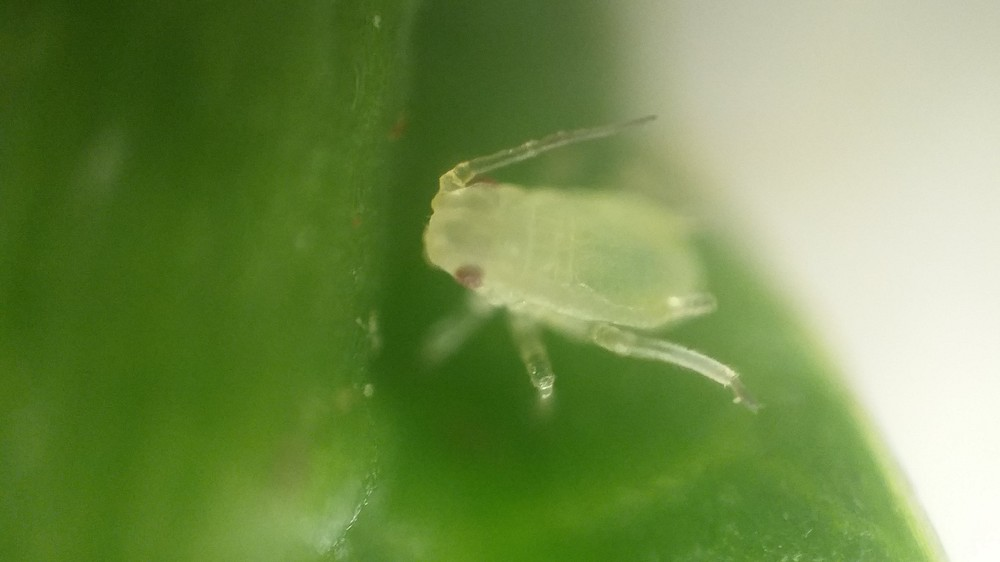Pulgon: (399, 95, 821, 454)
